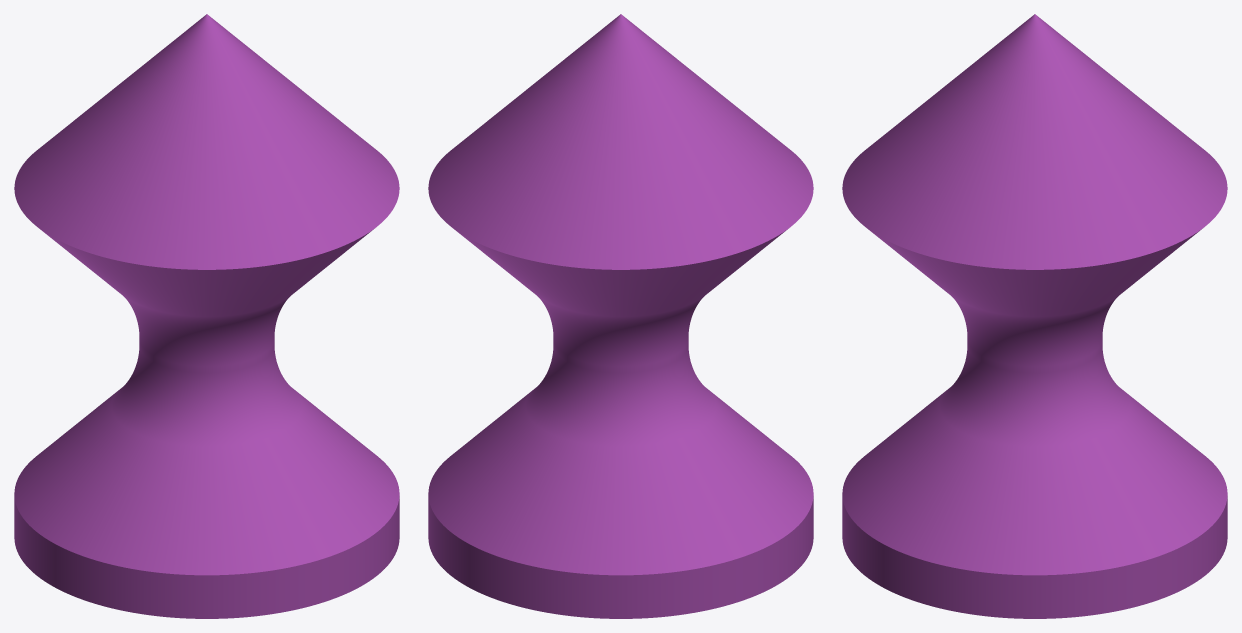
File: Fate Game Piece V3.glb
3 renders of one model, left to right at view 1: azimuth 30°, elevation 25°; view 2: azimuth 150°, elevation 25°; view 3: azimuth 270°, elevation 25°, orthographic.
Visible parts, largest first — view 1: mesh0_mesh, mesh0_mesh_10, mesh0_mesh_13, mesh0_mesh_3, mesh0_mesh_8, mesh0_mesh_1, mesh0_mesh_11, mesh0_mesh_4, mesh0_mesh_9, mesh0_mesh_5, mesh0_mesh_12, mesh0_mesh_7; view 2: mesh0_mesh_1, mesh0_mesh_11, mesh0_mesh_12, mesh0_mesh_2, mesh0_mesh_8, mesh0_mesh, mesh0_mesh_10, mesh0_mesh_4, mesh0_mesh_9, mesh0_mesh_5, mesh0_mesh_13, mesh0_mesh_6; view 3: mesh0_mesh, mesh0_mesh_1, mesh0_mesh_10, mesh0_mesh_11, mesh0_mesh_9, mesh0_mesh_12, mesh0_mesh_13, mesh0_mesh_5, mesh0_mesh_2, mesh0_mesh_3.
Boxes of the visible parts, x1,y1,x2,y2 form: mesh0_mesh: (40, 14, 399, 269); mesh0_mesh_10: (40, 390, 399, 575); mesh0_mesh_13: (40, 496, 399, 618); mesh0_mesh_3: (41, 229, 373, 316); mesh0_mesh_8: (111, 345, 254, 446); mesh0_mesh_1: (14, 14, 206, 228); mesh0_mesh_11: (14, 390, 123, 534); mesh0_mesh_4: (123, 296, 254, 366); mesh0_mesh_9: (240, 345, 302, 440); mesh0_mesh_5: (240, 296, 290, 362); mesh0_mesh_12: (14, 496, 40, 577); mesh0_mesh_7: (148, 339, 274, 372); mesh0_mesh_1: (428, 14, 787, 269); mesh0_mesh_11: (428, 390, 787, 575); mesh0_mesh_12: (428, 496, 787, 618); mesh0_mesh_2: (454, 229, 786, 316); mesh0_mesh_8: (573, 345, 716, 446); mesh0_mesh: (621, 14, 813, 228); mesh0_mesh_10: (704, 390, 813, 534); mesh0_mesh_4: (573, 296, 704, 366); mesh0_mesh_9: (525, 345, 587, 440); mesh0_mesh_5: (537, 296, 587, 362); mesh0_mesh_13: (787, 496, 813, 577); mesh0_mesh_6: (553, 339, 679, 372); mesh0_mesh: (842, 14, 1034, 269); mesh0_mesh_1: (1035, 14, 1227, 269); mesh0_mesh_10: (842, 390, 1034, 575); mesh0_mesh_11: (1035, 390, 1227, 575); mesh0_mesh_9: (939, 345, 1130, 446); mesh0_mesh_12: (1035, 496, 1227, 618); mesh0_mesh_13: (842, 496, 1034, 618); mesh0_mesh_5: (951, 296, 1118, 366); mesh0_mesh_2: (1035, 229, 1201, 316); mesh0_mesh_3: (868, 229, 1034, 316).
Bounding box in the file's own units: 0.0254 × 0.0381 × 0.0254.
